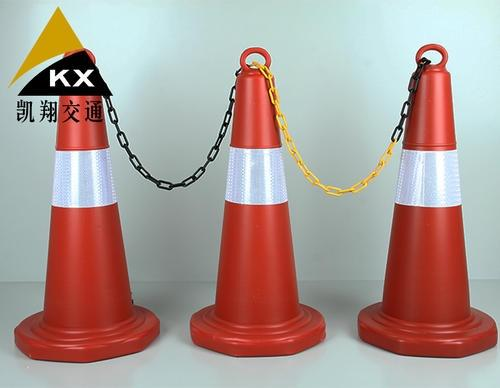cone_barrel: (191, 52, 326, 354), (361, 47, 489, 359), (19, 55, 149, 357)
